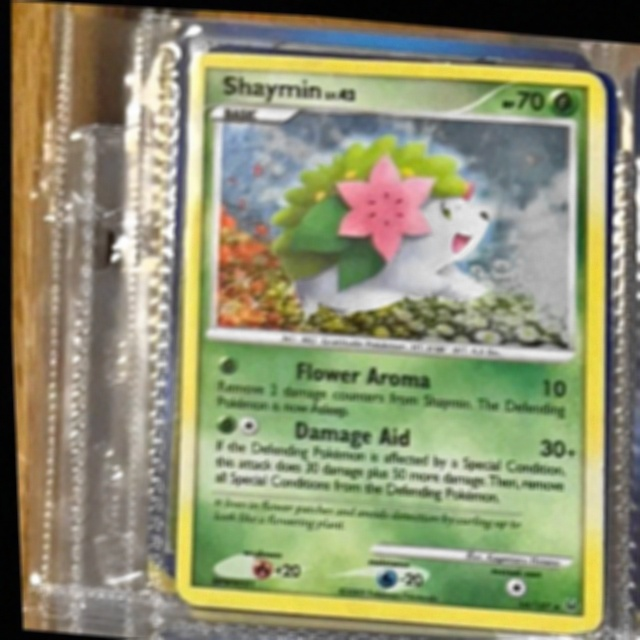card: (171, 48, 606, 628)
